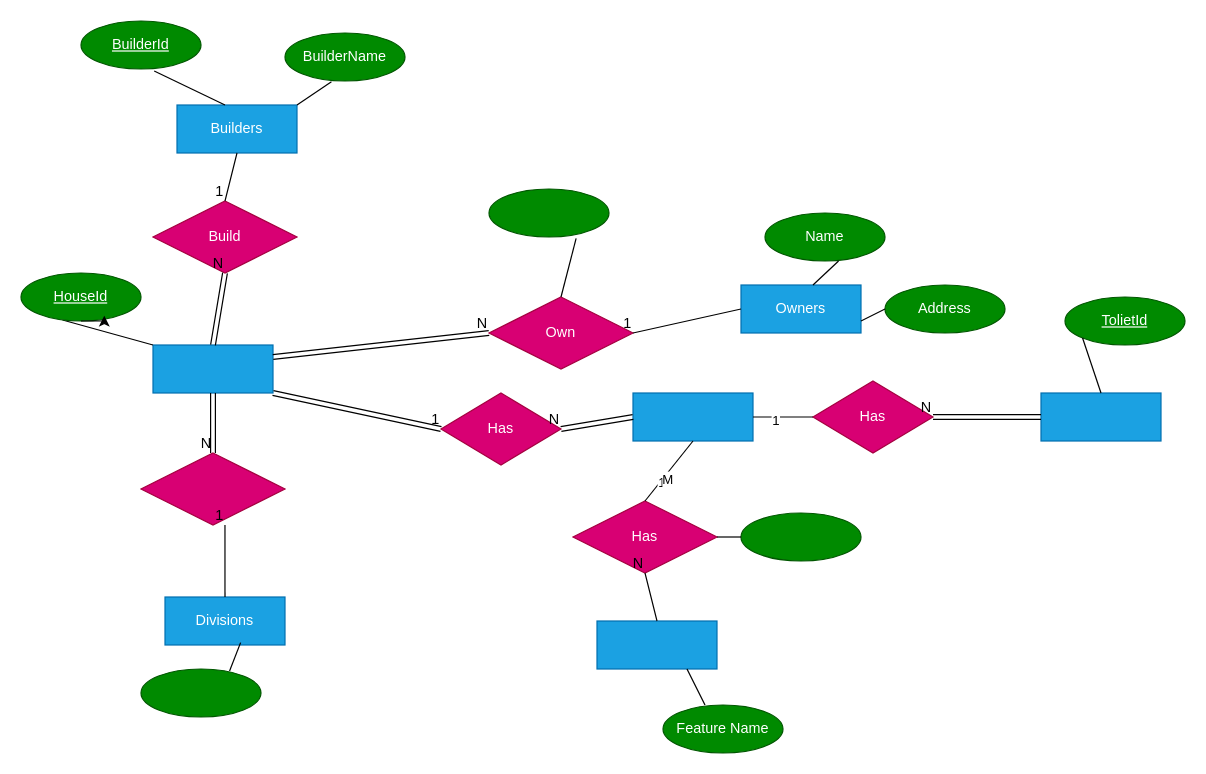
This 1206x774 diagram has some shape labels left out. The shapes that lost their labels are listed below. From the top down, each one's centre as x and y in pixels, then its label:
At (x=548, y=212): "Num Of Houses Owned".
At (x=212, y=368): "Houses".
At (x=692, y=416): "Rooms".
At (x=1100, y=416): "Toilet".
At (x=212, y=488): "Contain".
At (x=800, y=536): "Num of Features".
At (x=656, y=644): "Room Features".
At (x=200, y=692): "DivisionNames".
